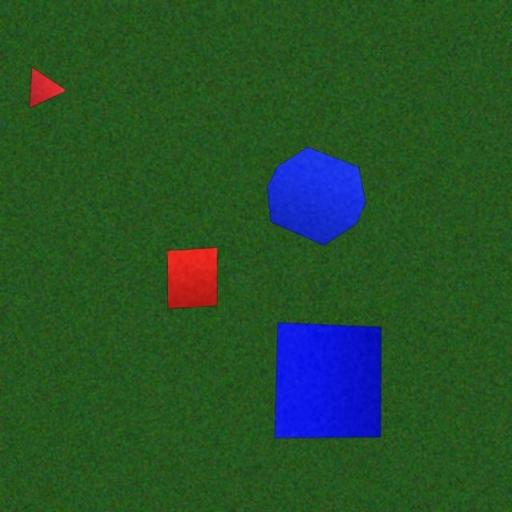BLUE_SQUARE: (274, 322, 382, 439)
RED_SQUARE: (166, 247, 218, 310)
